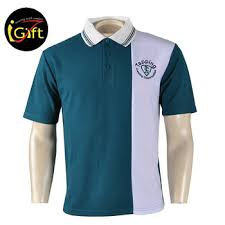C_polo shirt: (31, 24, 192, 209)
